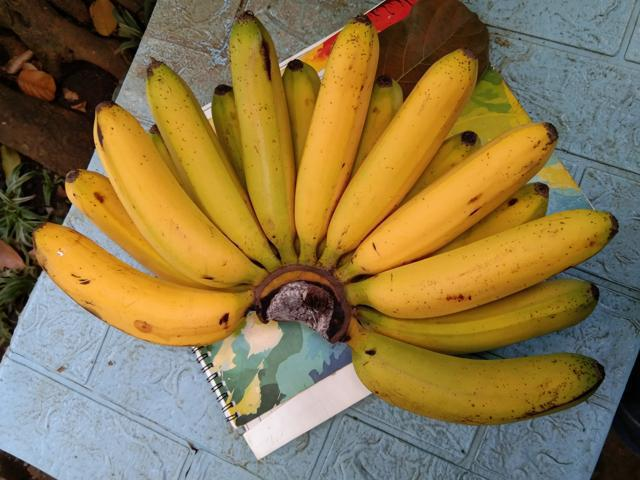freshripe: (342, 106, 569, 272), (317, 40, 483, 245), (24, 213, 251, 344), (86, 100, 227, 280), (145, 58, 260, 268), (285, 7, 378, 237)
ripe: (367, 202, 621, 319), (348, 327, 615, 431)
